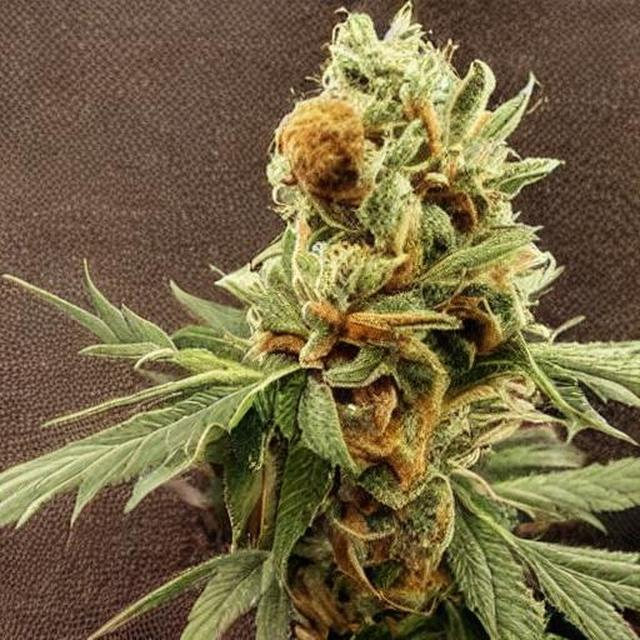Marijuana Joint: (6, 20, 640, 640)
